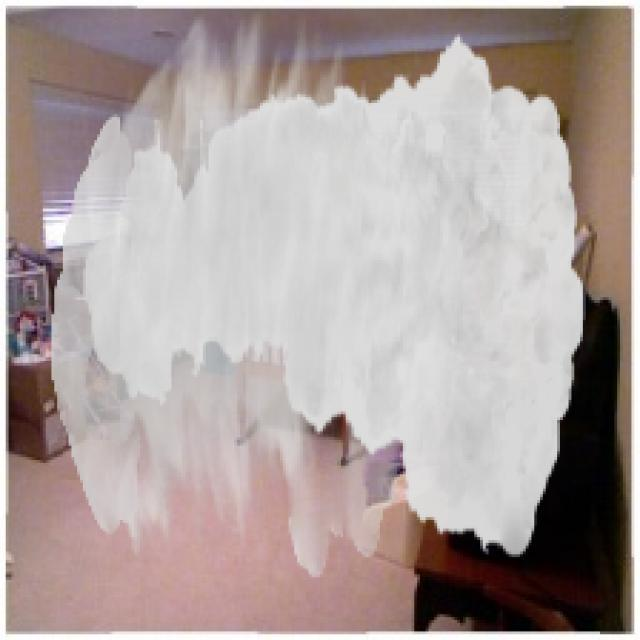Smoke: (51, 11, 586, 578)
